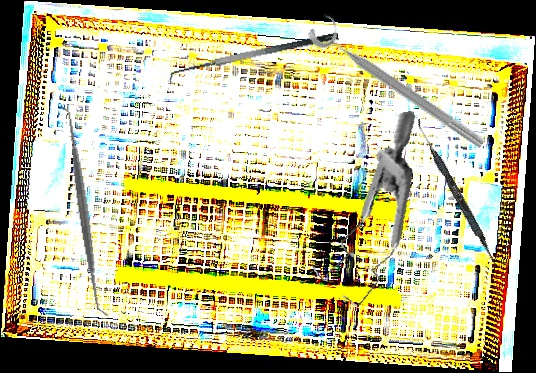Fixation Ring: (305, 10, 495, 154)
Spatula Surgical: (410, 118, 503, 268), (57, 102, 111, 321), (166, 31, 342, 88)
Speculum: (286, 110, 449, 313)
